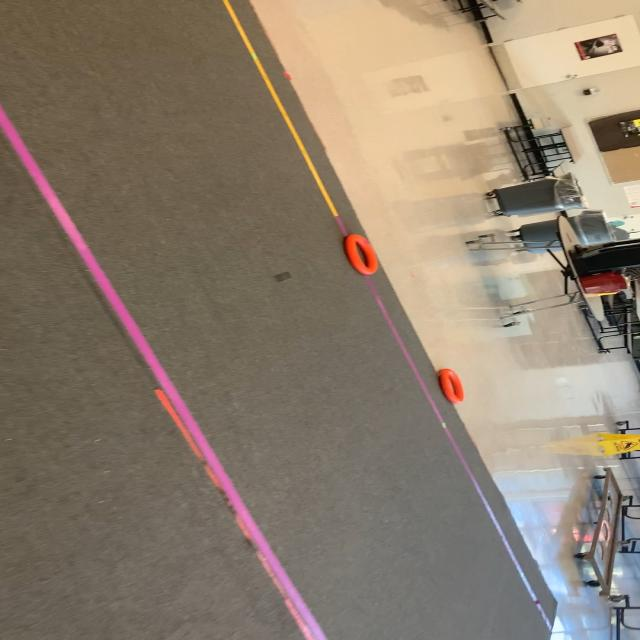notes: (344, 234, 382, 277), (436, 367, 464, 405)
